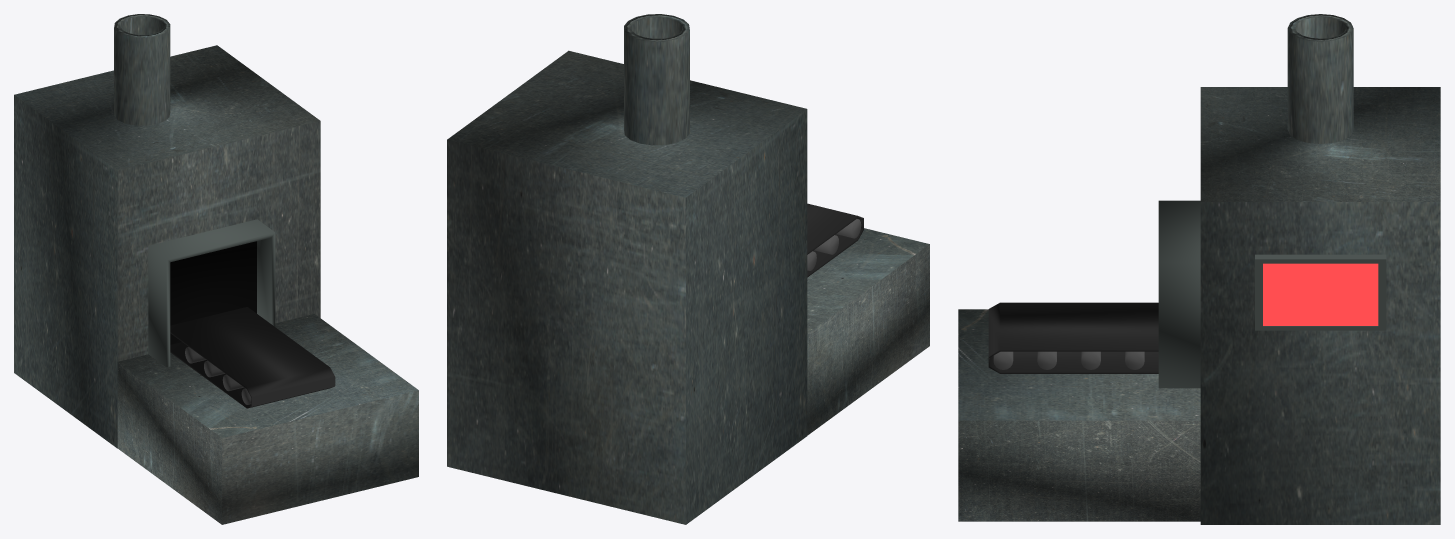
Rendered from workbench_chain_belt.fbx.
3 views of the same model, side by side, from view 1: azimuth 30°, elevation 25°; view 2: azimuth 150°, elevation 25°; view 3: azimuth 270°, elevation 25° (orthographic). The views are drawn at different scales.
Visible parts, largest first — view 1: bench.002, Cube, Cube.001, Plane; view 2: bench.002, Cube, Plane; view 3: bench.002, Cube, Plane, bench.004, Cube.001.
Boxes of the visible parts, <box> form: bench.002: <box>14,14,320,448</box>; Cube: <box>117,314,418,524</box>; Cube.001: <box>148,219,275,367</box>; Plane: <box>170,307,335,408</box>; bench.002: <box>447,14,807,524</box>; Cube: <box>807,228,929,435</box>; Plane: <box>807,203,863,277</box>; bench.002: <box>1200,14,1440,524</box>; Cube: <box>958,309,1200,521</box>; Plane: <box>988,302,1158,373</box>; bench.004: <box>1255,254,1386,330</box>; Cube.001: <box>1158,200,1200,388</box>.
Bounding box in the file's own units: 131 × 214 × 220.
